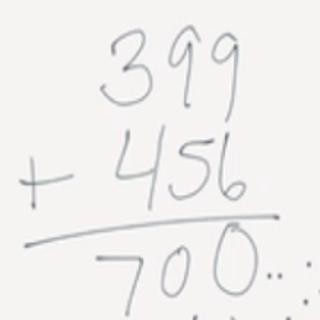.: (302, 258, 316, 274)
0: (213, 223, 260, 297), (161, 246, 190, 301)
3: (106, 29, 153, 107)
4: (116, 123, 163, 211)
5: (172, 140, 215, 204)
6: (221, 130, 245, 203)
7: (91, 253, 144, 320)
9: (168, 22, 201, 109), (210, 32, 238, 118)
